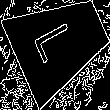L_NE: (34, 18, 86, 68)
